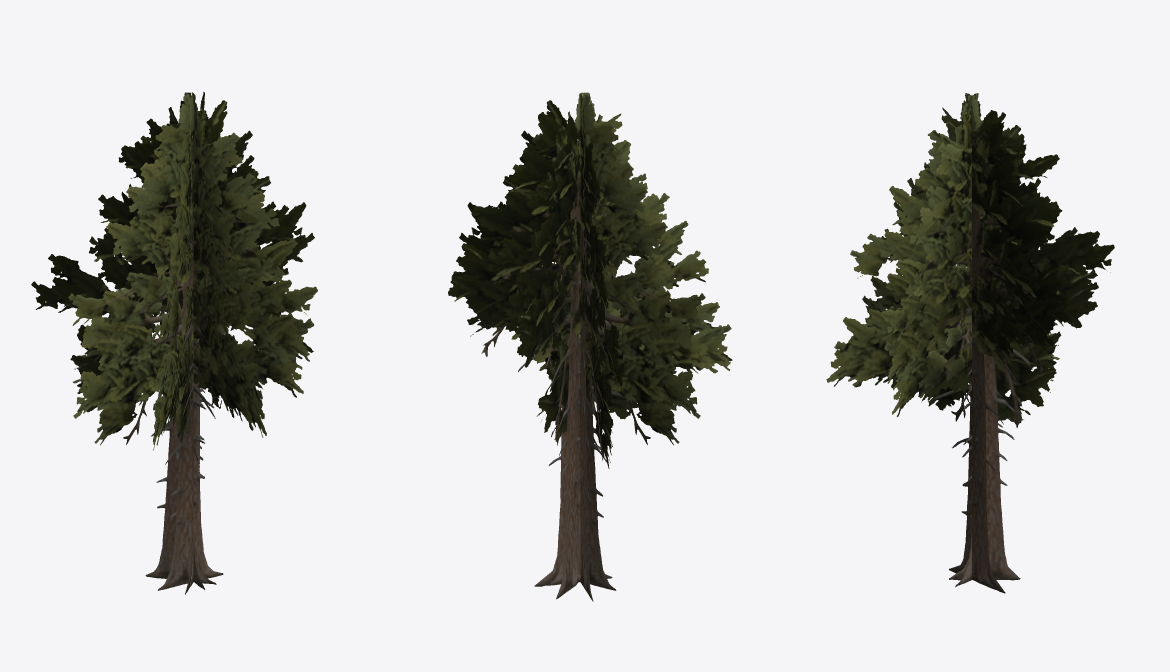
Rendered from solitary-pine-far.glb.
3 renders of one model, left to right at view 1: azimuth 30°, elevation 25°; view 2: azimuth 150°, elevation 25°; view 3: azimuth 270°, elevation 25°, orthographic.
Parts seen in each view (by area): view 1: Pine far original silhouette cards; view 2: Pine far original silhouette cards; view 3: Pine far original silhouette cards.
Boxes of the visible parts, <box> form: Pine far original silhouette cards: <box>31,92,317,594</box>; Pine far original silhouette cards: <box>448,92,732,601</box>; Pine far original silhouette cards: <box>826,93,1114,593</box>.
Size of the model in its own units: 1.31 by 1.92 by 1.31.
1 material, 1 textured.
